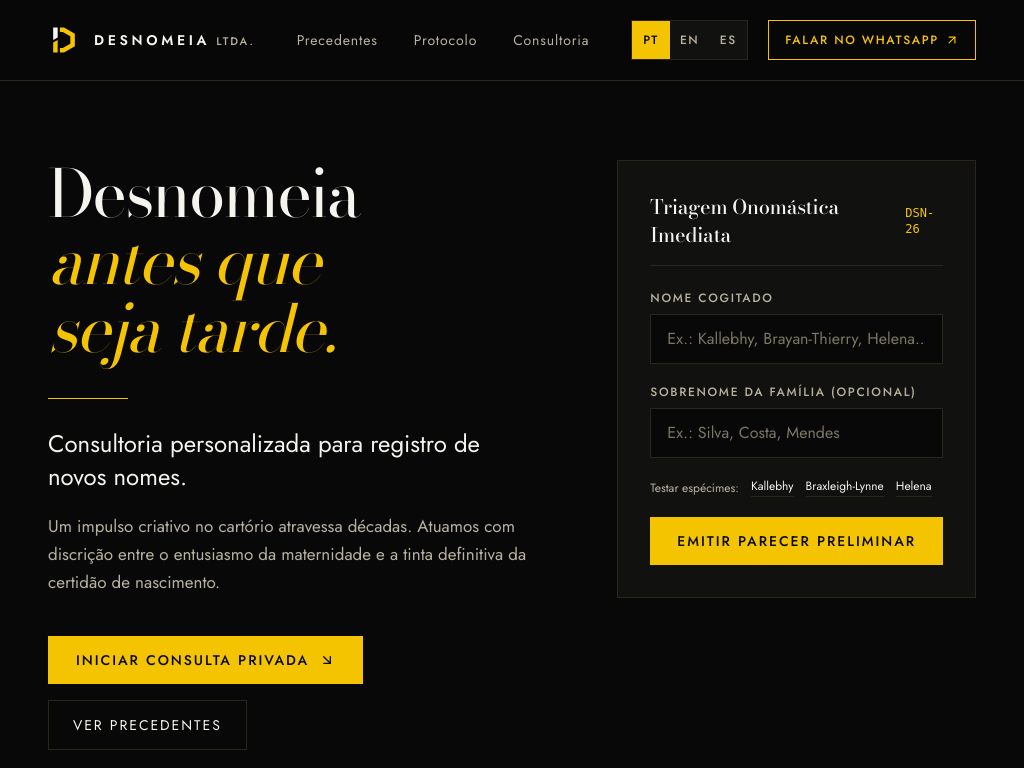
it: Desnomeia Landing Page — i18n, Concierge & 5s JUSC Easter Egg › validates empty screening input and produces WhatsApp dossier link on submission
Later steps or results of the test are not shown.
Click the button "Emitir parecer preliminar" at (797, 541), box x1=650 y1=517 x2=943 y2=565
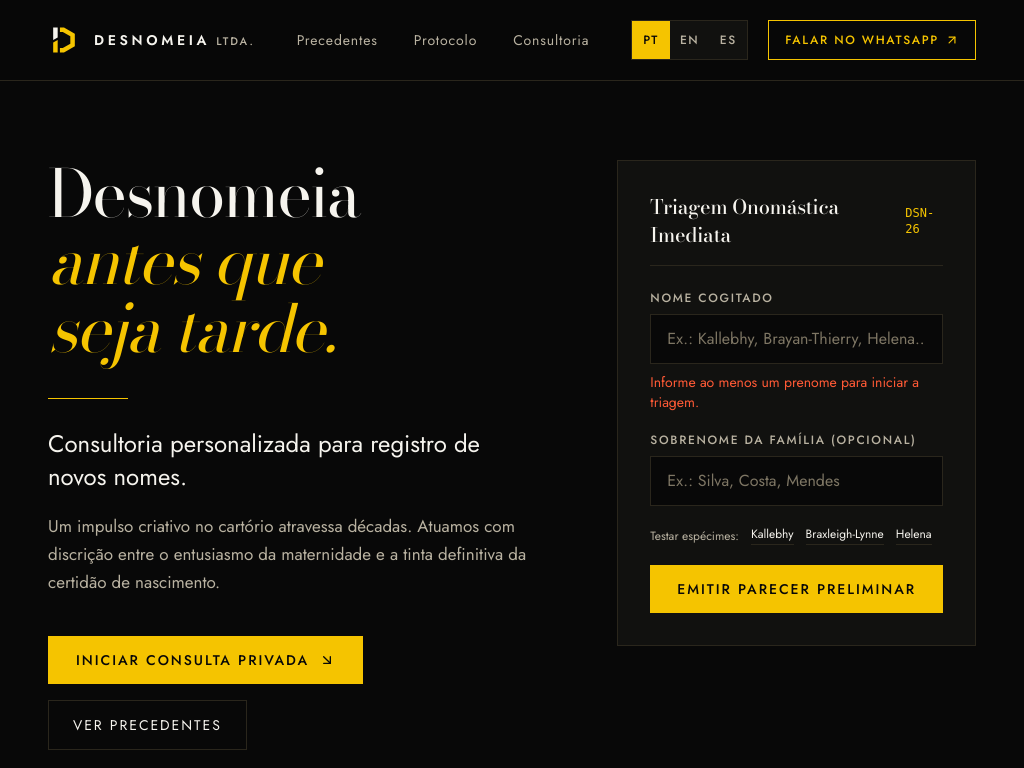
Check: the message shows "Informe ao menos", box x1=650 y1=372 x2=919 y2=412
